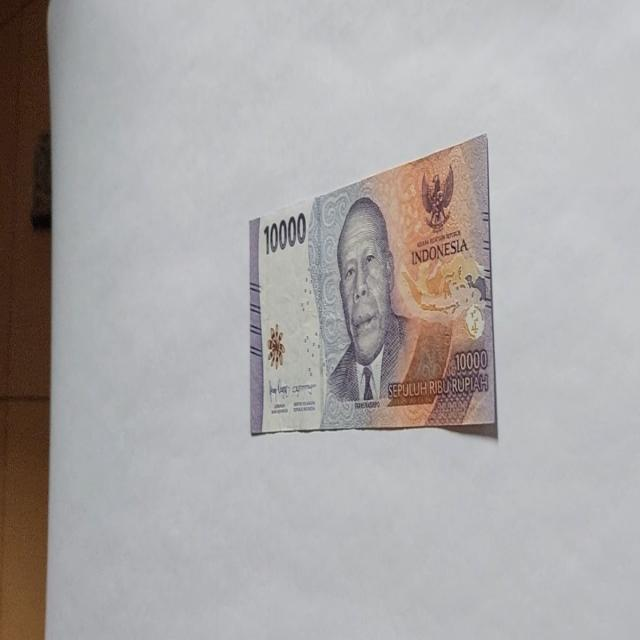sepuluh ribu rupiah: (248, 132, 498, 438), (320, 194, 454, 428)
